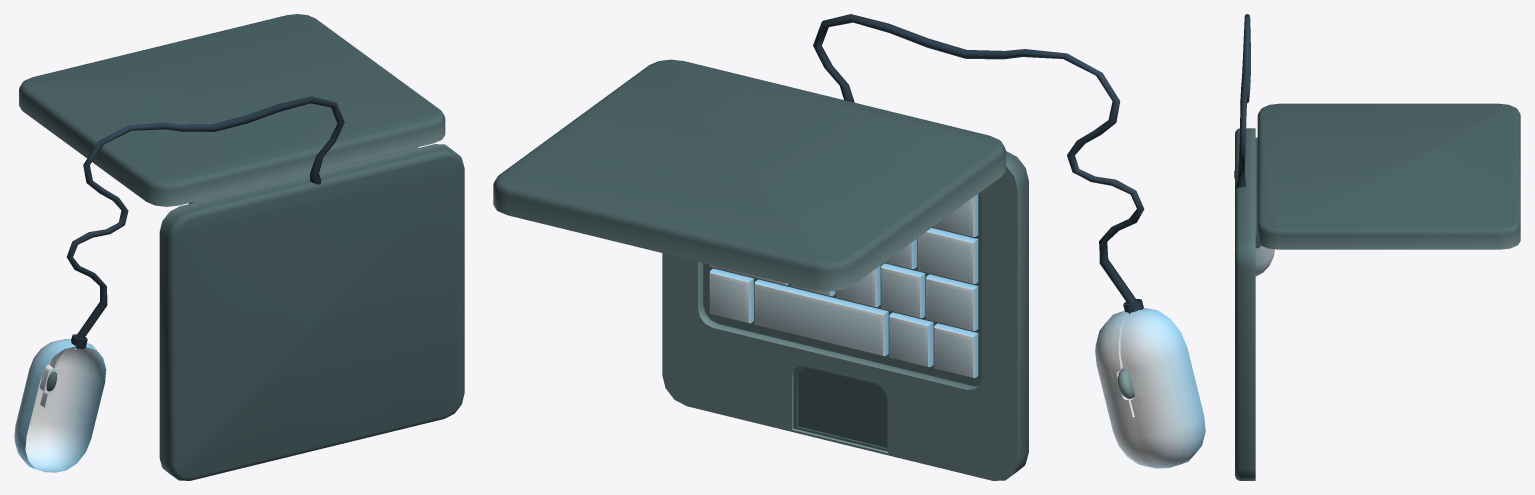
File: Notebook.fbx
The picture shows the model from 3 angles, left to right: view 1: azimuth 30°, elevation 25°; view 2: azimuth 150°, elevation 25°; view 3: azimuth 270°, elevation 25°; orthographic projection. The views are drawn at different scales.
Visible parts, largest first — view 1: laptop, laptop_lid, mouse; view 2: laptop_lid, laptop, keyboard, mouse; view 3: laptop_lid, laptop, mouse.
Part boxes in pixels (left/top/right/bottom): laptop: left=159, top=144, right=464, bottom=480; laptop_lid: left=19, top=14, right=445, bottom=206; mouse: left=14, top=96, right=344, bottom=472; laptop_lid: left=493, top=59, right=1005, bottom=291; laptop: left=662, top=151, right=1028, bottom=480; keyboard: left=709, top=194, right=978, bottom=377; mouse: left=813, top=14, right=1205, bottom=468; laptop_lid: left=1257, top=103, right=1520, bottom=249; laptop: left=1235, top=128, right=1260, bottom=480; mouse: left=1234, top=14, right=1274, bottom=276.
Size of the model in its own units: 299 by 236 by 189.
